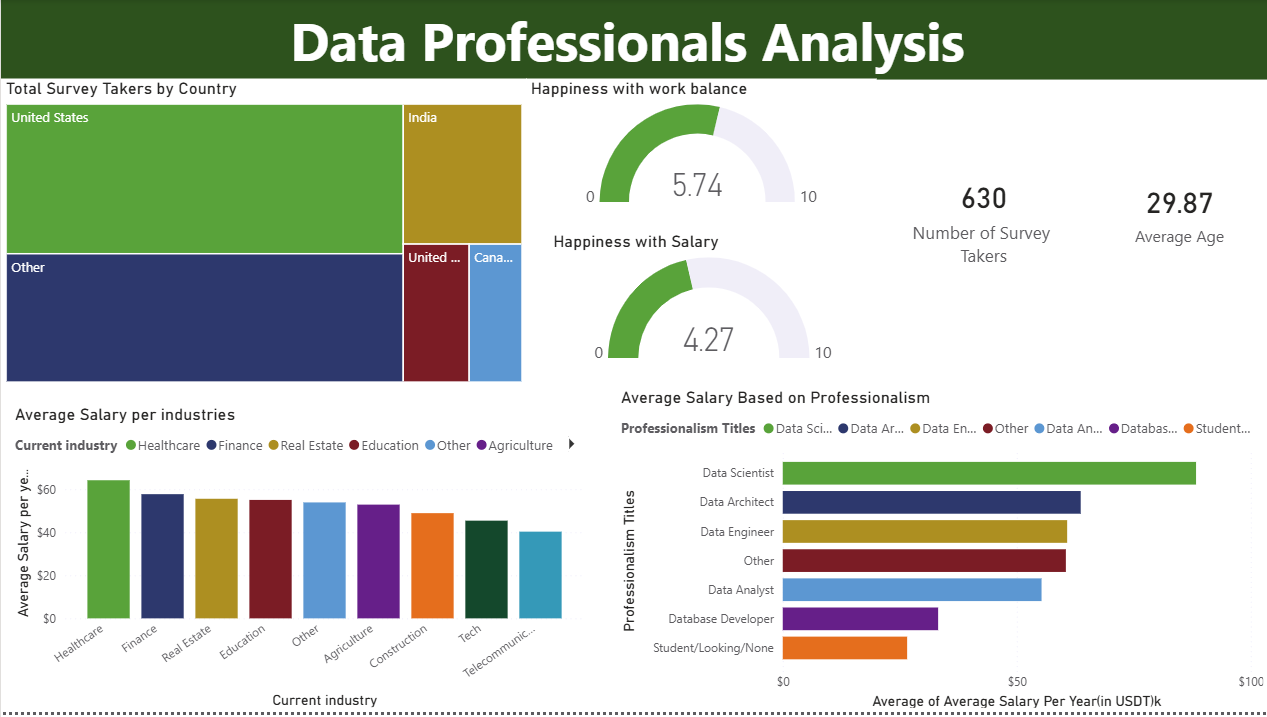

What the dashboard file says about the page in this screenshot:
{"tool":"powerbi","page":{"name":"Page 1","canvas":[1280,720],"ordinal":0},"visuals":[{"type":"textbox","box":[0,0,1279.4,81.3],"z":0},{"type":"barChart","title":"Average Salary Based on Professionalism","fields":{"Y":["Avg(Data Professional Survey.Average Salary Per Year(in USDT)k)"],"Category":["Data Professional Survey.Q1 - Which Title Best Fits your Current Role?.1"],"Series":["Data Professional Survey.Q1 - Which Title Best Fits your Current Role?.1"]},"box":[620.5,391.6,658.4,328.4],"z":1000},{"type":"columnChart","title":"Average Salary  per industries","fields":{"Category":["Data Professional Survey.Q4 - What Industry do you work in?.1"],"Y":["Avg(Data Professional Survey.Average Salary Per Year(in USDT)k)"],"Series":["Data Professional Survey.Q4 - What Industry do you work in?.1"]},"box":[9.5,409,584.2,311.1],"z":2000},{"type":"gauge","title":"Happiness with Salary","fields":{"Y":["Avg(Data Professional Survey.Q6 - How Happy are you in your Current Position with the following? (Salary))"],"MinValue":["Min(Data Professional Survey.Q6 - How Happy are you in your Current Position with the following? (Salary))"],"MaxValue":["Max(Data Professional Survey.Q6 - How Happy are you in your Current Position with the following? (Salary))"]},"box":[552.6,235.3,331.6,137.4],"z":3000},{"type":"gauge","title":"Happiness with work balance","fields":{"Y":["Avg(Data Professional Survey.Q6 - How Happy are you in your Current Position with the following? (Work/Life Balance))"],"MinValue":["Min(Data Professional Survey.Q6 - How Happy are you in your Current Position with the following? (Work/Life Balance))"],"MaxValue":["Max(Data Professional Survey.Q6 - How Happy are you in your Current Position with the following? (Work/Life Balance))"]},"box":[530.5,80.5,353.7,134.2],"z":4000},{"type":"treemap","title":"Total Survey Takers by Country","fields":{"Group":["Data Professional Survey.Q11 - Which Country do you live in?.1"],"Values":["CountNonNull(Data Professional Survey.Unique ID)"]},"box":[0,80.5,530.5,311.1],"z":5000},{"type":"card","fields":{"Values":["CountNonNull(Data Professional Survey.Unique ID)"]},"box":[884.2,90,214.7,241.6],"z":6000},{"type":"card","fields":{"Values":["Avg(Data Professional Survey.Q10 - Current Age)"]},"box":[1099,96.3,180,235.3],"z":6001}]}

Visuals, with their boxes in screenshot pixels (x1, y1, x2, y2), scaled from the page's 1280x720 canvas onto the 1267x717 screenshot:
textbox: [0, 0, 1266, 81]
"Average Salary Based on Professionalism" barChart: [614, 390, 1266, 716]
"Average Salary  per industries" columnChart: [9, 407, 588, 716]
"Happiness with Salary" gauge: [547, 234, 875, 371]
"Happiness with work balance" gauge: [525, 80, 875, 214]
"Total Survey Takers by Country" treemap: [0, 80, 525, 390]
card - CountNonNull(Data Professional Survey.Unique ID): [875, 90, 1088, 330]
card - Avg(Data Professional Survey.Q10 - Current Age): [1088, 96, 1266, 330]
